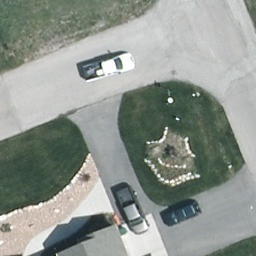car: (159, 200, 204, 228)
pickup: (112, 182, 152, 235), (77, 50, 135, 82)
